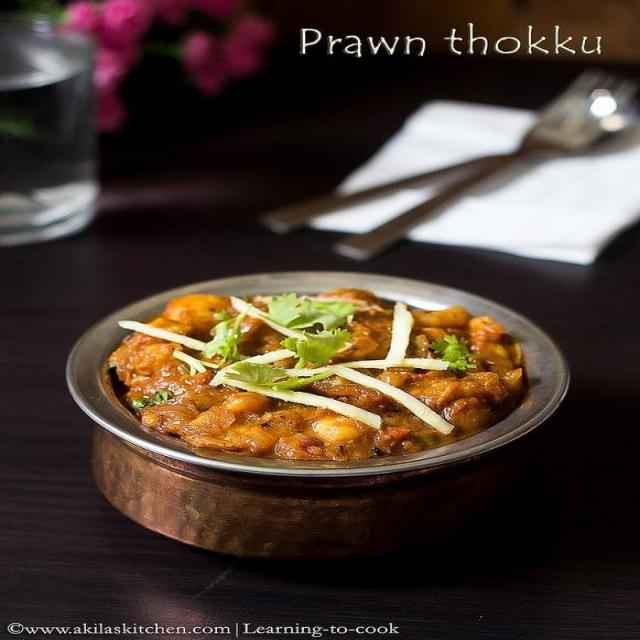prawn thokku: (125, 282, 523, 470)
